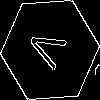V: (25, 25, 75, 75)
